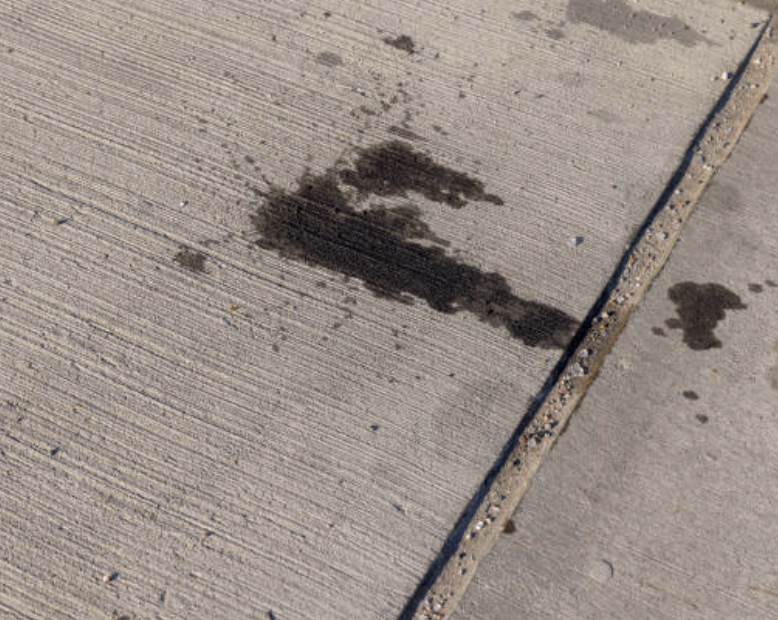oil: (124, 62, 318, 192), (328, 140, 376, 177)
